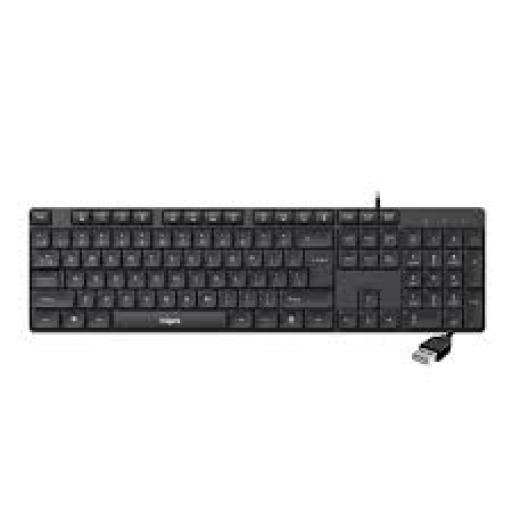KEYBOARD-2: (32, 200, 482, 330)
